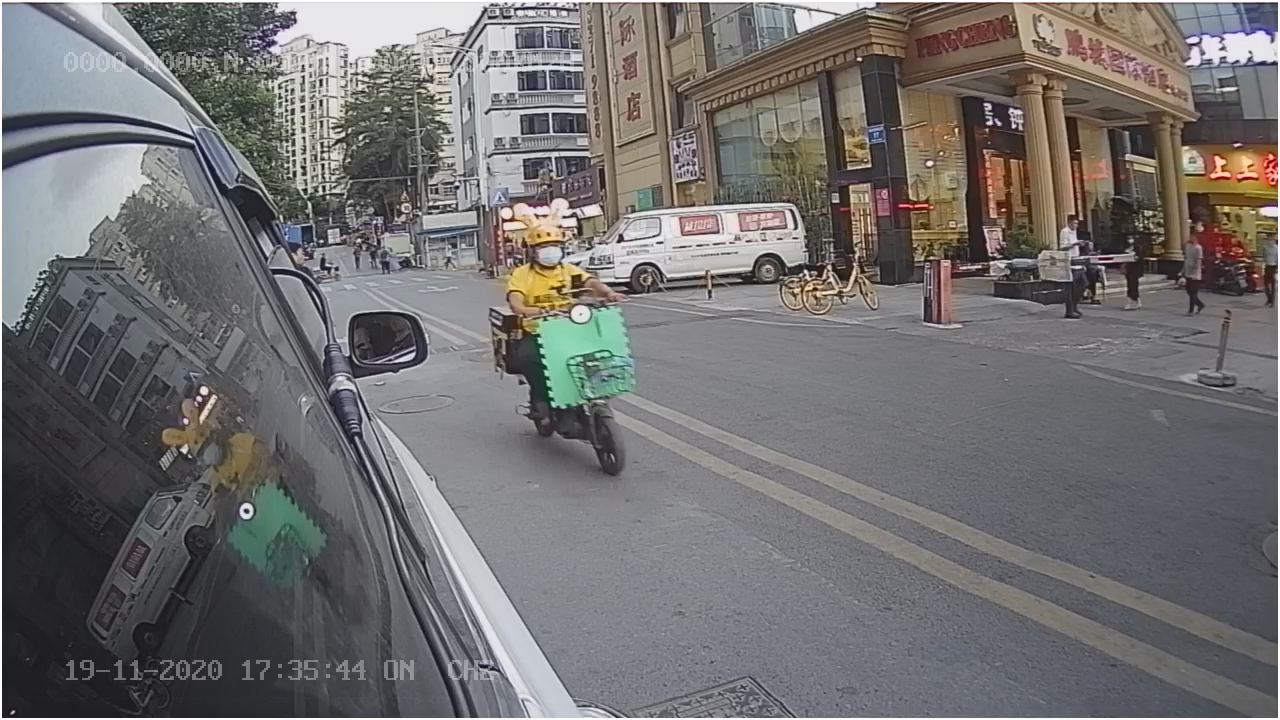person: (499, 214, 596, 300)
